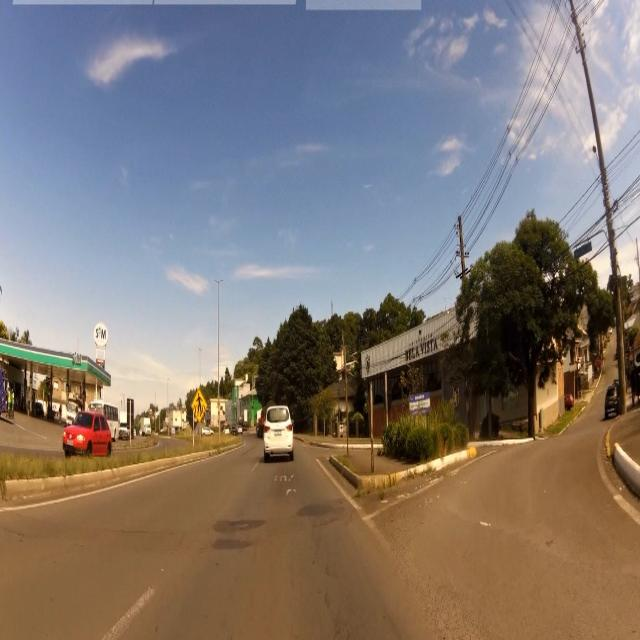A-32b: (190, 389, 209, 421)
